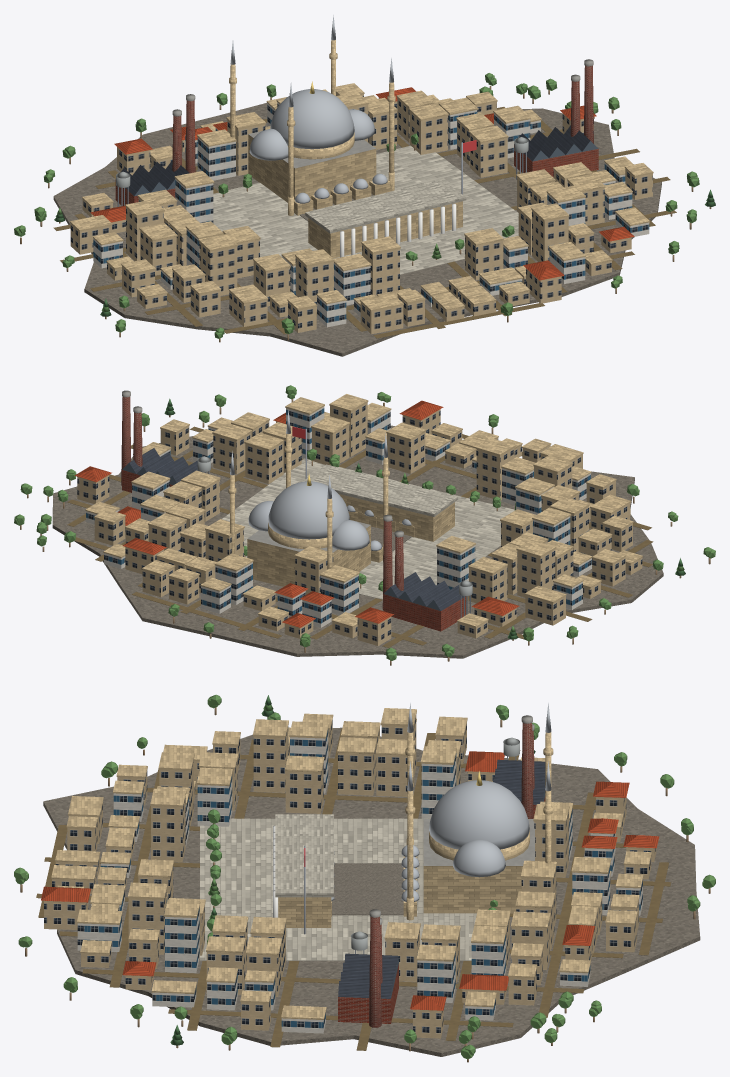
File: city_orient_capital.glb
The picture shows the model from 3 angles, top to bottom: view 1: azimuth 30°, elevation 25°; view 2: azimuth 150°, elevation 25°; view 3: azimuth 270°, elevation 25°; orthographic projection. The views are drawn at different scales.
Visible parts, largest first — view 1: city_orient_capital; view 2: city_orient_capital; view 3: city_orient_capital.
Part boxes in pixels (box(x1,y1,x2,y2)): city_orient_capital: box(14, 15, 715, 356); city_orient_capital: box(14, 385, 715, 665); city_orient_capital: box(14, 694, 715, 1062).
Size of the model in its own units: 5.99 by 1.29 by 5.03.
21 materials, 11 textured.
